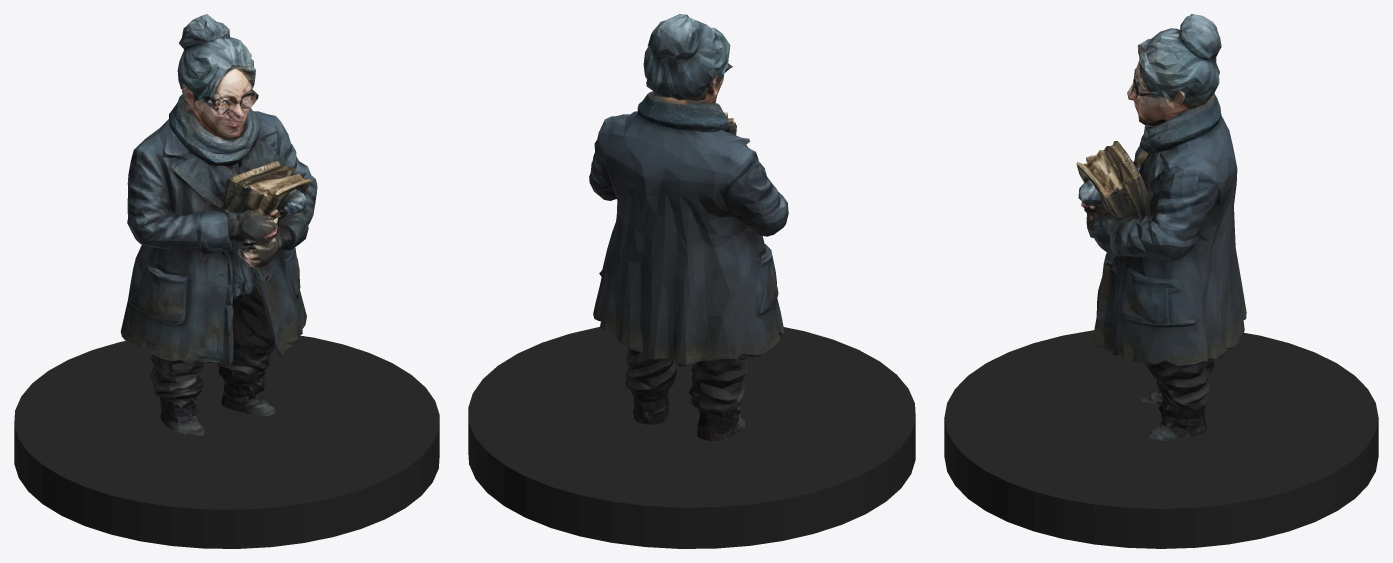
The model's file is alexis-grey.glb.
3 views of the same model, side by side, from view 1: azimuth 30°, elevation 25°; view 2: azimuth 150°, elevation 25°; view 3: azimuth 270°, elevation 25° (orthographic). The views are drawn at different scales.
Visible parts, largest first — view 1: base, figure; view 2: base, figure; view 3: base, figure.
Part boxes in pixels (box(x1,y1,x2,y2)): base: box(14, 335, 439, 548); figure: box(120, 14, 317, 435); base: box(468, 327, 915, 548); figure: box(589, 14, 788, 441); base: box(944, 330, 1378, 548); figure: box(1076, 14, 1246, 440).
Size of the model in its own units: 1.18 by 1.32 by 1.18.
2 materials, 1 textured.
